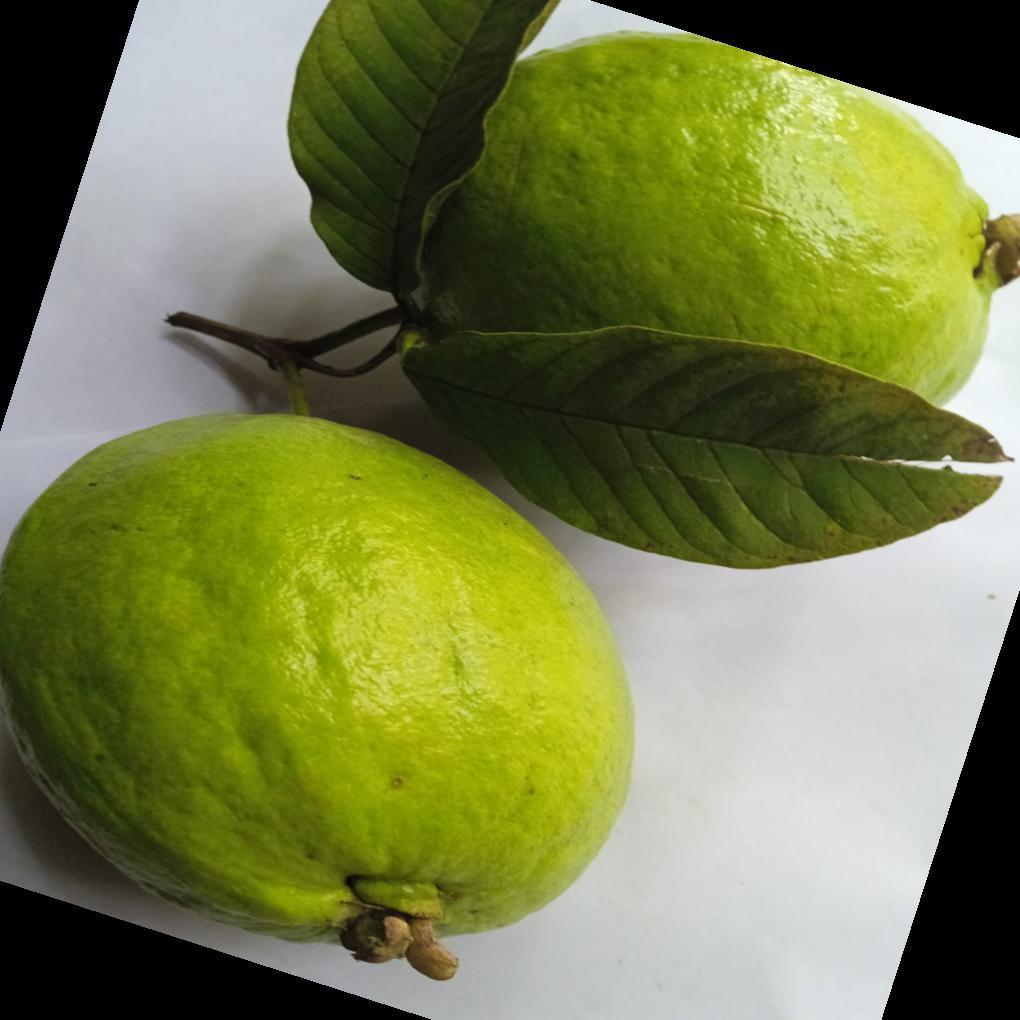FreshGuava: (243, 0, 1020, 572), (0, 414, 637, 982)
